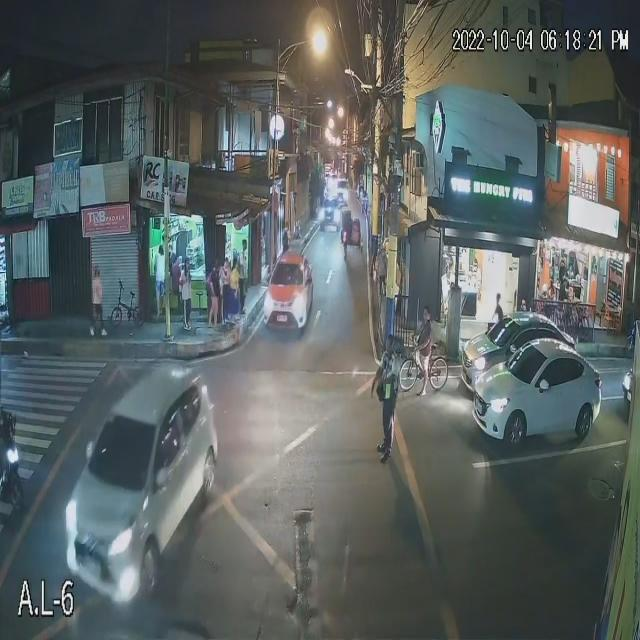motorcycle: (0, 409, 34, 510)
